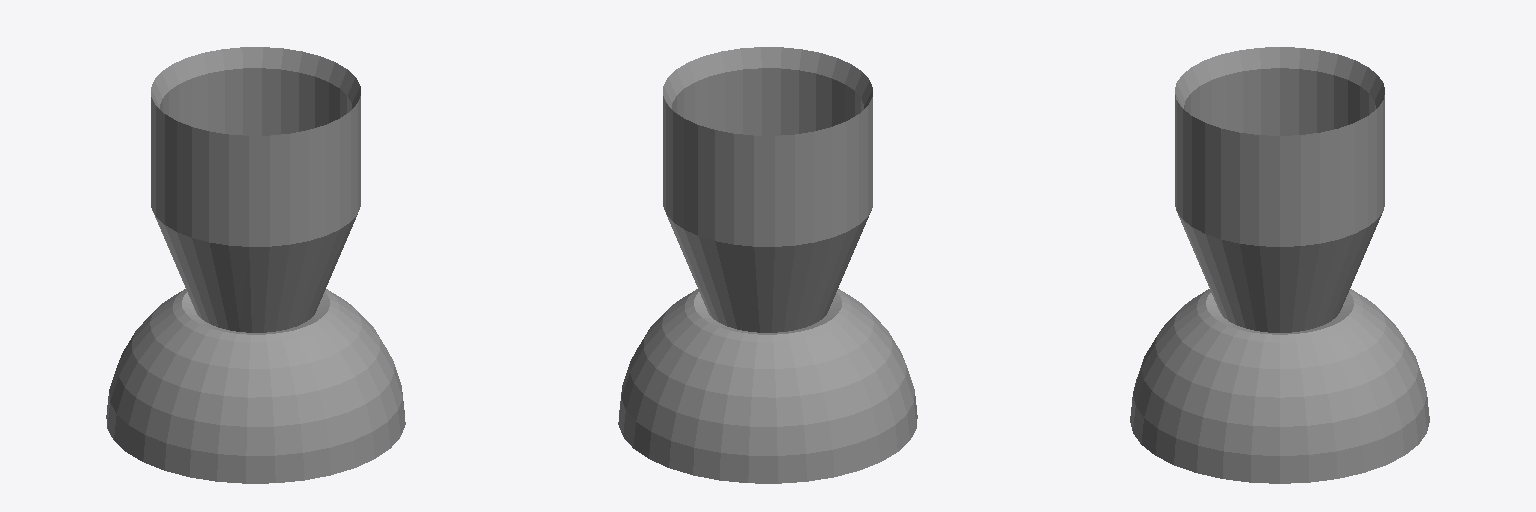
Rendered from OutwardTurret.obj.
The picture shows the model from 3 angles: view 1: azimuth 30°, elevation 25°; view 2: azimuth 150°, elevation 25°; view 3: azimuth 270°, elevation 25°; orthographic projection.
Parts seen in each view (by area): view 1: Sphere; view 2: Sphere; view 3: Sphere.
Boxes of the visible parts, box(x1,y1,x2,y2) form: Sphere: box(106, 47, 405, 483); Sphere: box(618, 47, 917, 483); Sphere: box(1130, 47, 1429, 483).
Size of the model in its own units: 1 by 1.21 by 1.